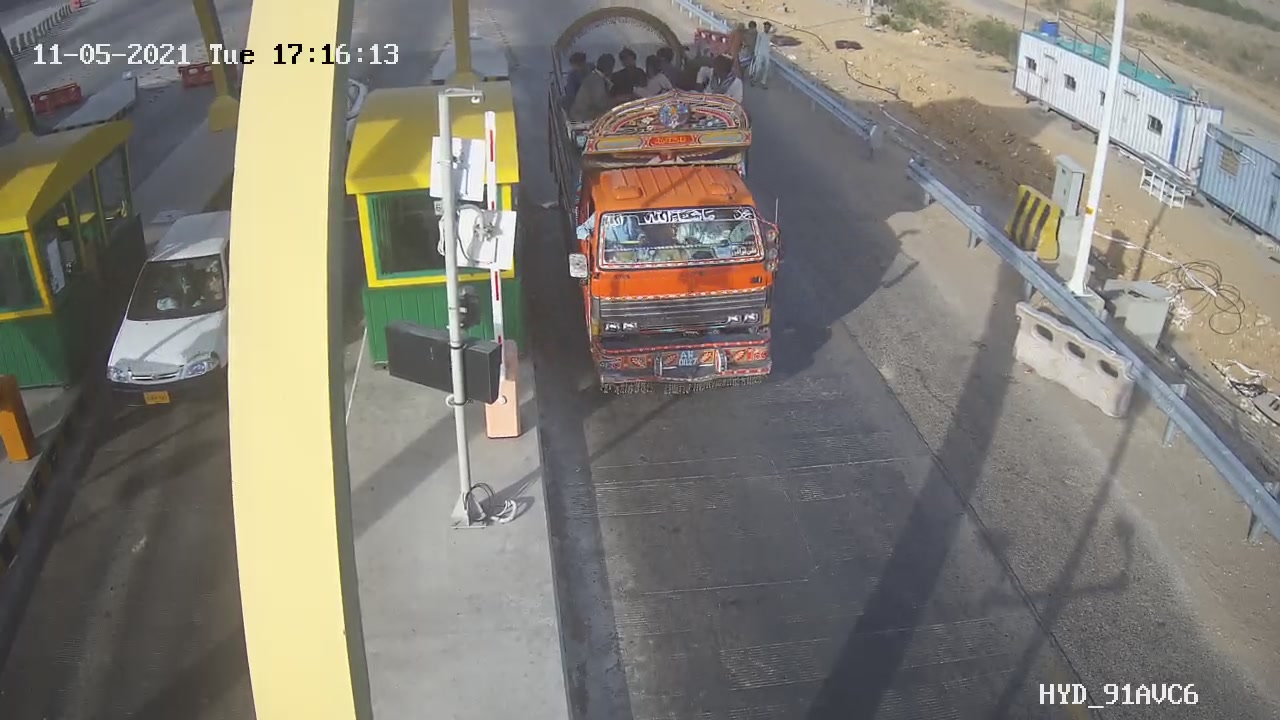F5: (524, 1, 803, 413)
